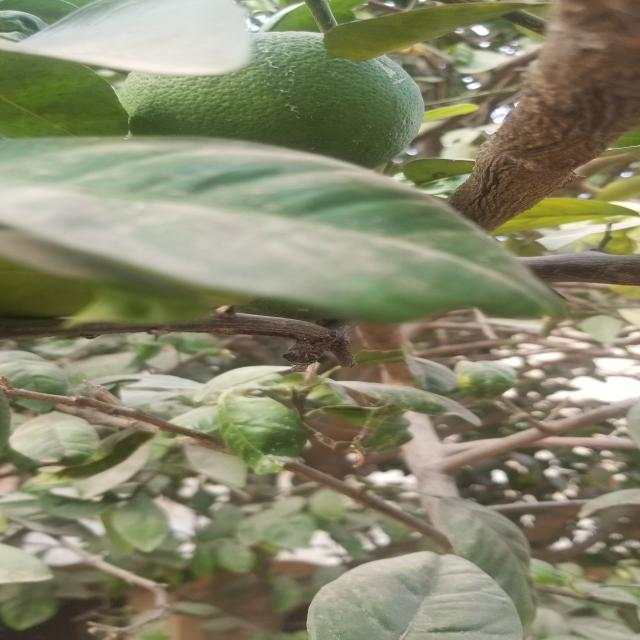Unripe: (127, 33, 418, 170)
